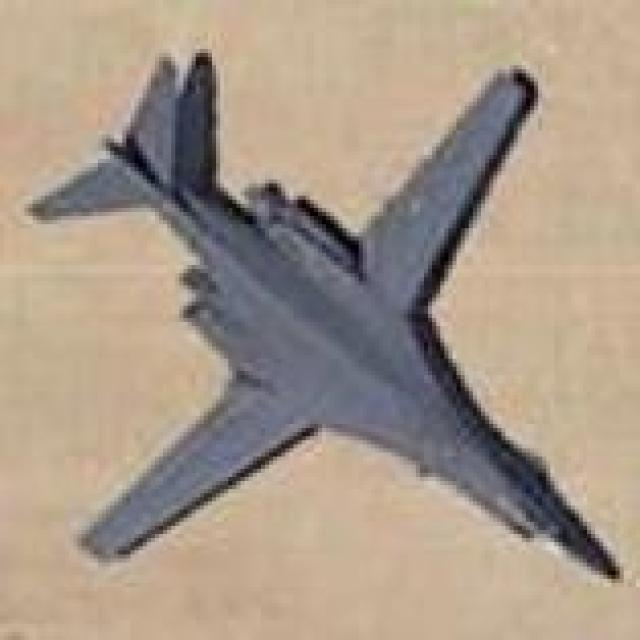B-1_TopDown: (20, 41, 624, 587)
